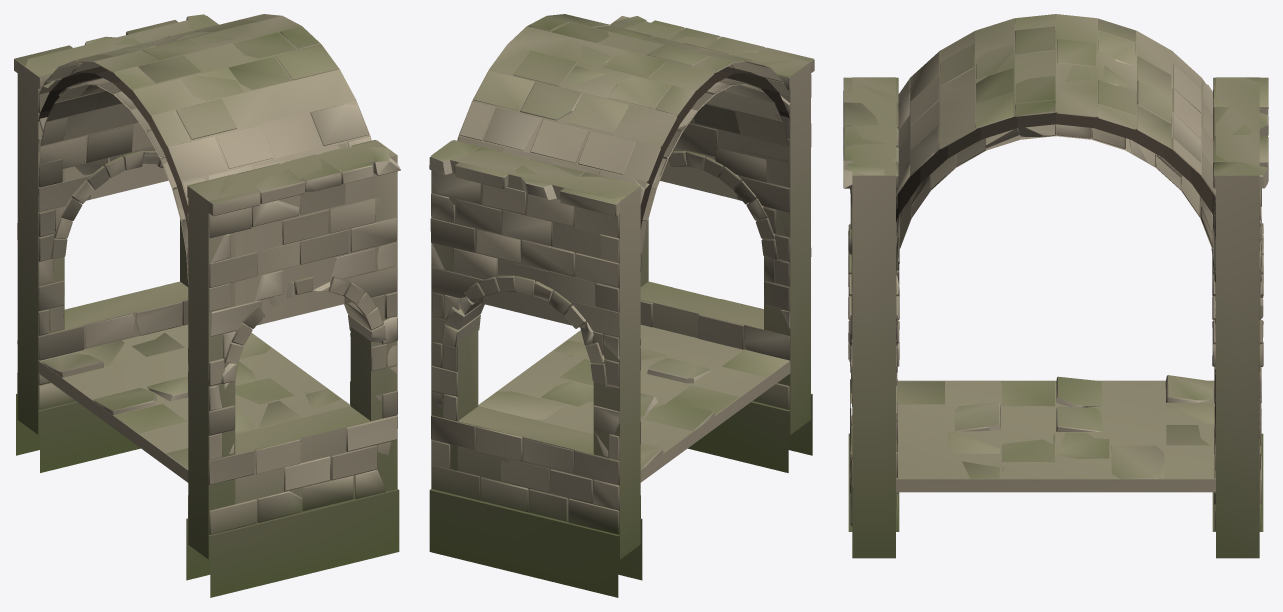
The model's file is baths_hall.glb.
3 renders of one model, left to right at view 1: azimuth 30°, elevation 25°; view 2: azimuth 150°, elevation 25°; view 3: azimuth 270°, elevation 25°, orthographic. The views are drawn at different scales.
Visible parts, largest first — view 1: baths_hall, baths_hall_far; view 2: baths_hall, baths_hall_far; view 3: baths_hall_far, baths_hall.
Boxes of the visible parts, bbox=[...] form: baths_hall: bbox=[14, 14, 400, 597]; baths_hall_far: bbox=[17, 14, 397, 559]; baths_hall: bbox=[429, 14, 814, 597]; baths_hall_far: bbox=[431, 16, 810, 559]; baths_hall_far: bbox=[852, 14, 1259, 558]; baths_hall: bbox=[843, 15, 1268, 531].
Size of the model in its own units: 16 by 36.85 by 29.22.
